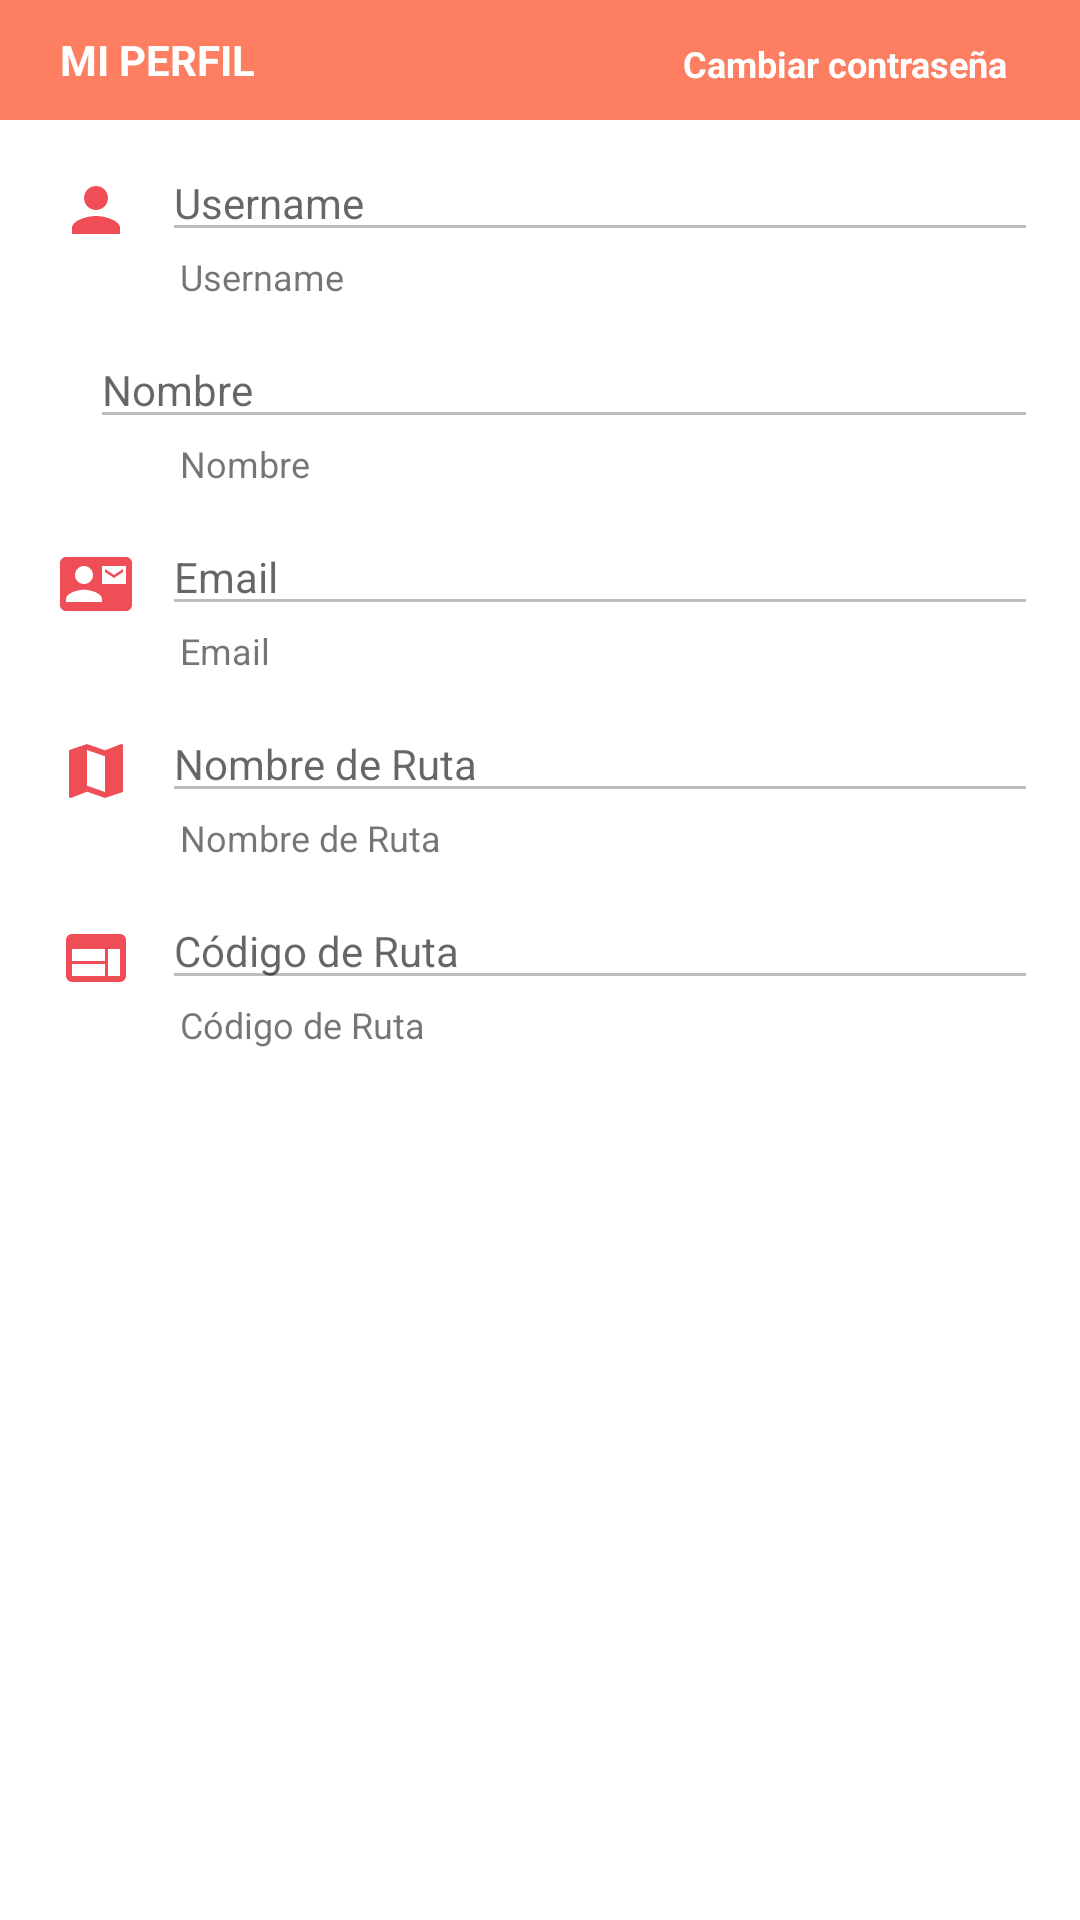

Screen size 1080*1920. Icon name, then its center in pixels as (x=x, y=y):
person profile: (x=96, y=210)
route name: (x=96, y=771)
user mail: (x=96, y=584)
